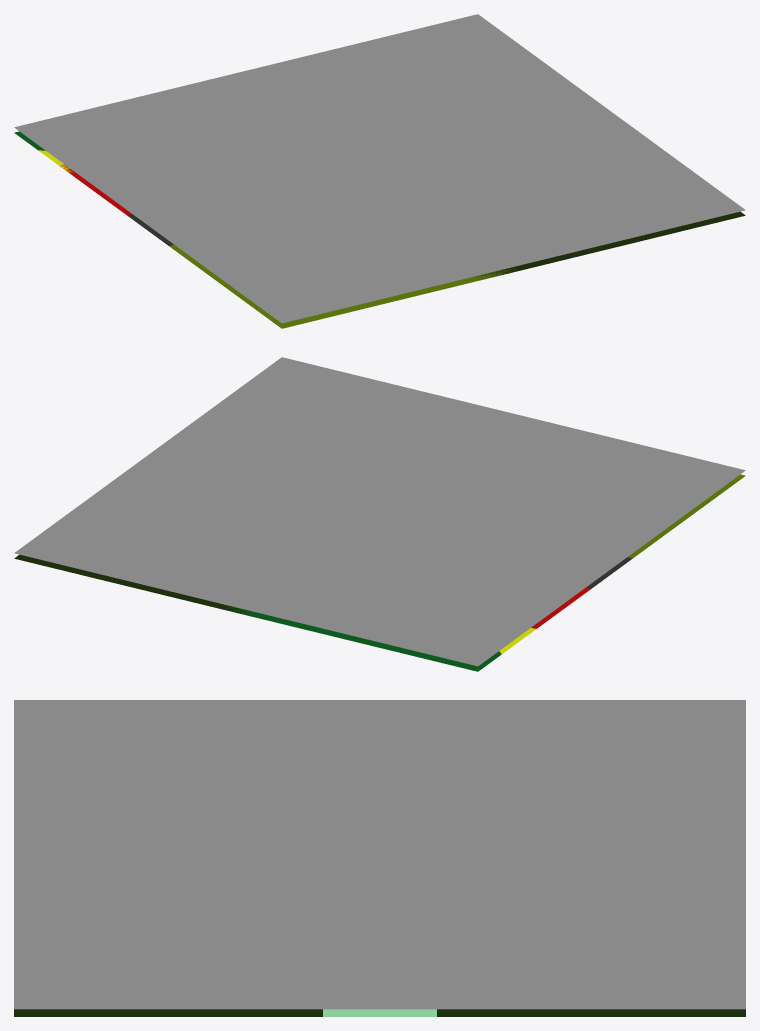
File: RT LINE V01 T07 SNAP.FBX
3 renders of one model, top to bottom at view 1: azimuth 30°, elevation 25°; view 2: azimuth 150°, elevation 25°; view 3: azimuth 270°, elevation 25°, orthographic. The views are drawn at different scales.
Parts seen in each view (by area): view 1: RT LINE V01 T07 SNAP, RT LINE V01 NAV Grass.Conc, RT LINE V01 T07; view 2: RT LINE V01 T07 SNAP, RT LINE V01 NAV Grass, RT LINE V01 T07, RT LINE V01 NAV Grass.Conc; view 3: RT LINE V01 T07 SNAP, RT LINE V01 T07.
Boxes of the visible parts, box(x1,y1,x2,y2) form: RT LINE V01 T07 SNAP: box(14, 14, 745, 323); RT LINE V01 NAV Grass.Conc: box(169, 245, 514, 328); RT LINE V01 T07: box(471, 211, 745, 279); RT LINE V01 T07 SNAP: box(14, 357, 745, 666); RT LINE V01 NAV Grass: box(219, 605, 501, 671); RT LINE V01 T07: box(14, 554, 265, 618); RT LINE V01 NAV Grass.Conc: box(627, 474, 745, 558); RT LINE V01 T07 SNAP: box(14, 700, 745, 1009); RT LINE V01 T07: box(14, 1009, 745, 1016).
Size of the model in its own units: 90 by 1 by 90.
